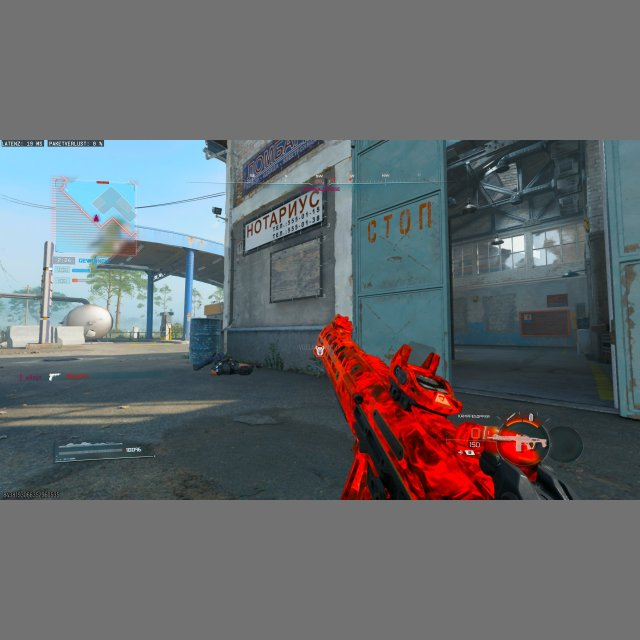head: (238, 362, 253, 375)
